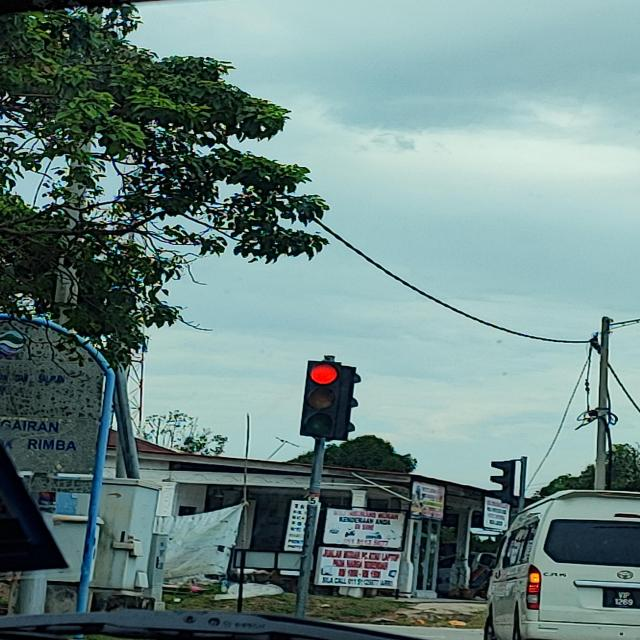car: (482, 489, 640, 640)
traffic light: (300, 359, 360, 441), (299, 360, 342, 441), (339, 365, 361, 440), (490, 460, 516, 507)
